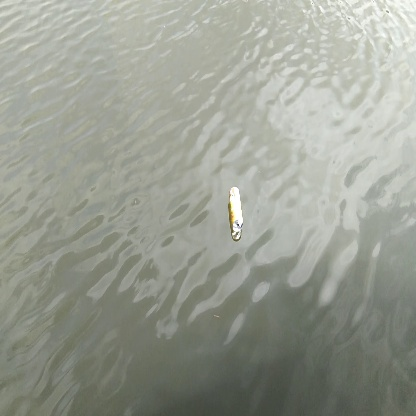bottle: (227, 186, 246, 241)
